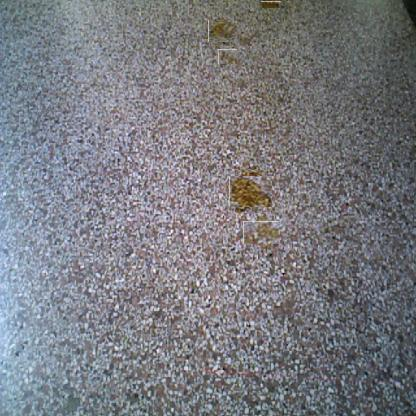liquid: (232, 173, 270, 210), (247, 218, 276, 247), (210, 19, 236, 44), (219, 48, 236, 65), (261, 1, 281, 8)
